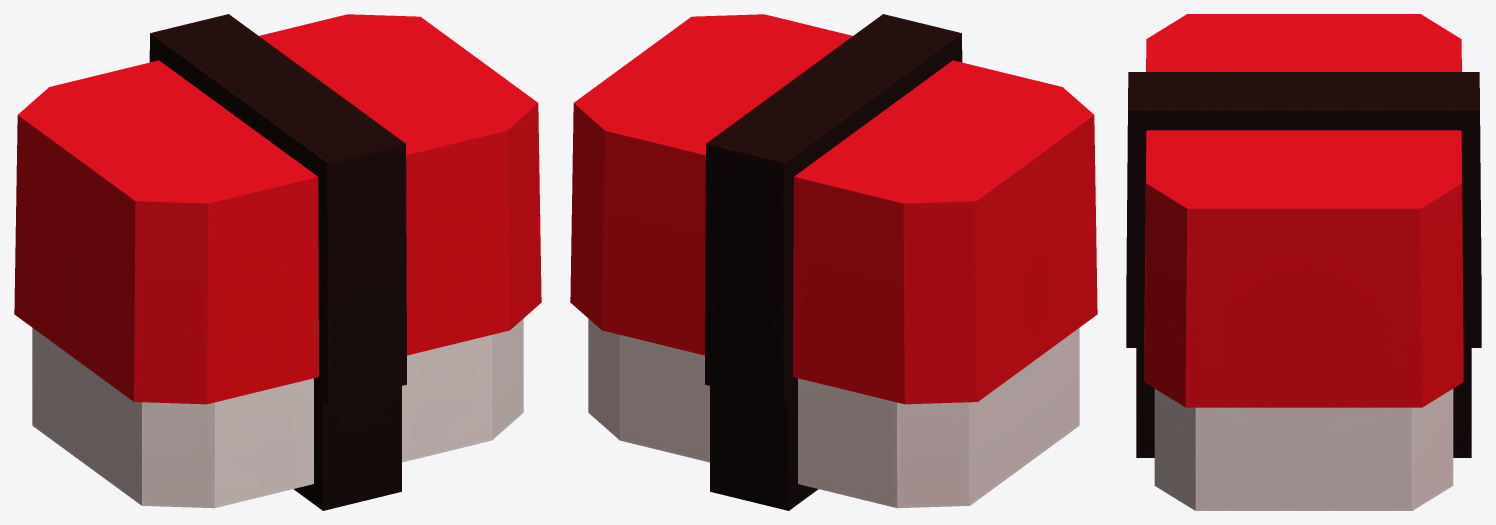
Rendered from TunaRoll.fbx.
3 views of the same model, side by side, from view 1: azimuth 30°, elevation 25°; view 2: azimuth 150°, elevation 25°; view 3: azimuth 270°, elevation 25° (orthographic).
Parts seen in each view (by area): view 1: TunaRoll; view 2: TunaRoll; view 3: TunaRoll.
Part boxes in pixels (x1,y1,x2,y2): TunaRoll: [14, 14, 541, 510]; TunaRoll: [570, 14, 1097, 510]; TunaRoll: [1126, 14, 1481, 510].
Size of the model in its own units: 134 by 102 by 110.
1 material, 1 textured.
